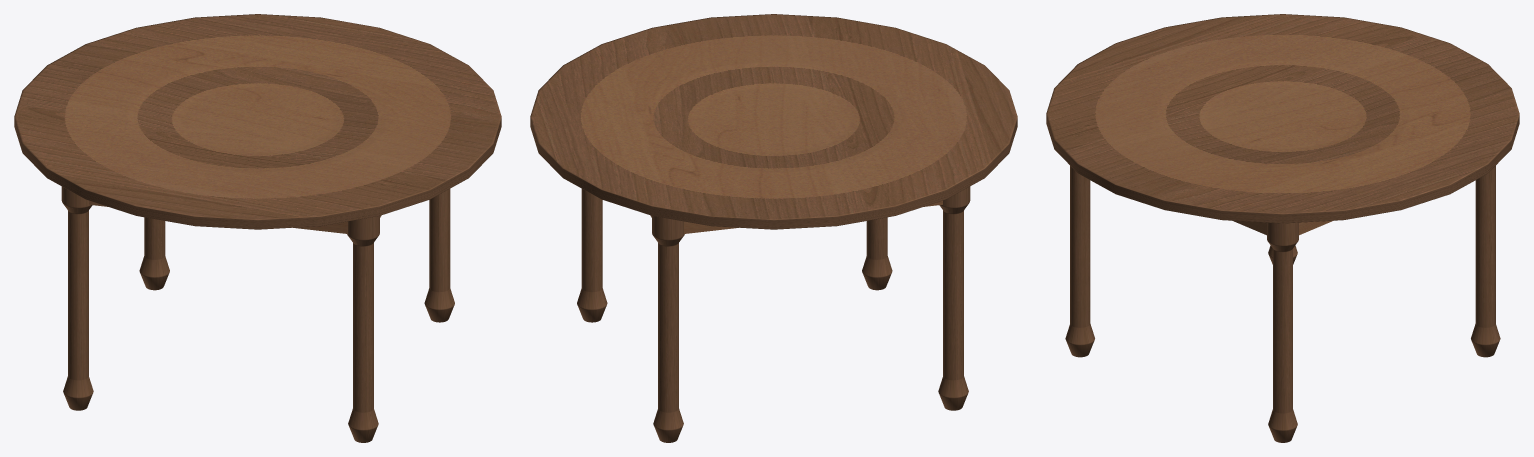
Rendered from desk.dae.
3 views of the same model, side by side, from view 1: azimuth 30°, elevation 25°; view 2: azimuth 150°, elevation 25°; view 3: azimuth 270°, elevation 25° (orthographic). The views are drawn at different scales.
Parts seen in each view (by area): view 1: Table, Leg; view 2: Table, Leg; view 3: Table, Leg, Support.
Part boxes in pixels (box(x1,y1,x2,y2)): Table: box(14, 14, 501, 229); Leg: box(61, 186, 454, 442); Table: box(530, 14, 1017, 229); Leg: box(577, 186, 970, 442); Table: box(1046, 14, 1519, 223); Leg: box(1065, 166, 1500, 442); Support: box(1232, 220, 1333, 235).
Size of the model in its own units: 3.92 by 3.92 by 2.18.
Materials: 2 (2 with a texture image).
